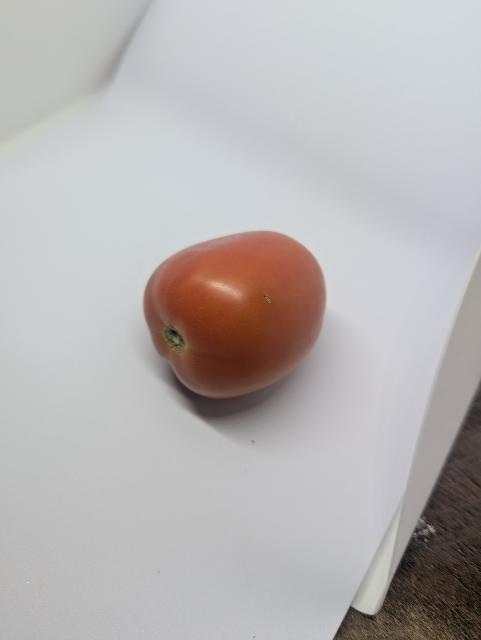red: (128, 218, 333, 412)
